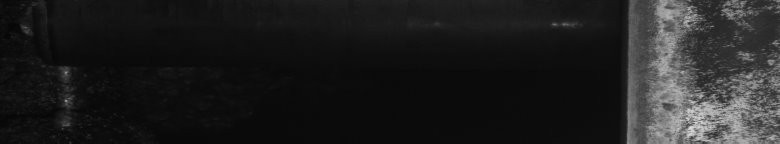kb: (646, 4, 776, 136)
